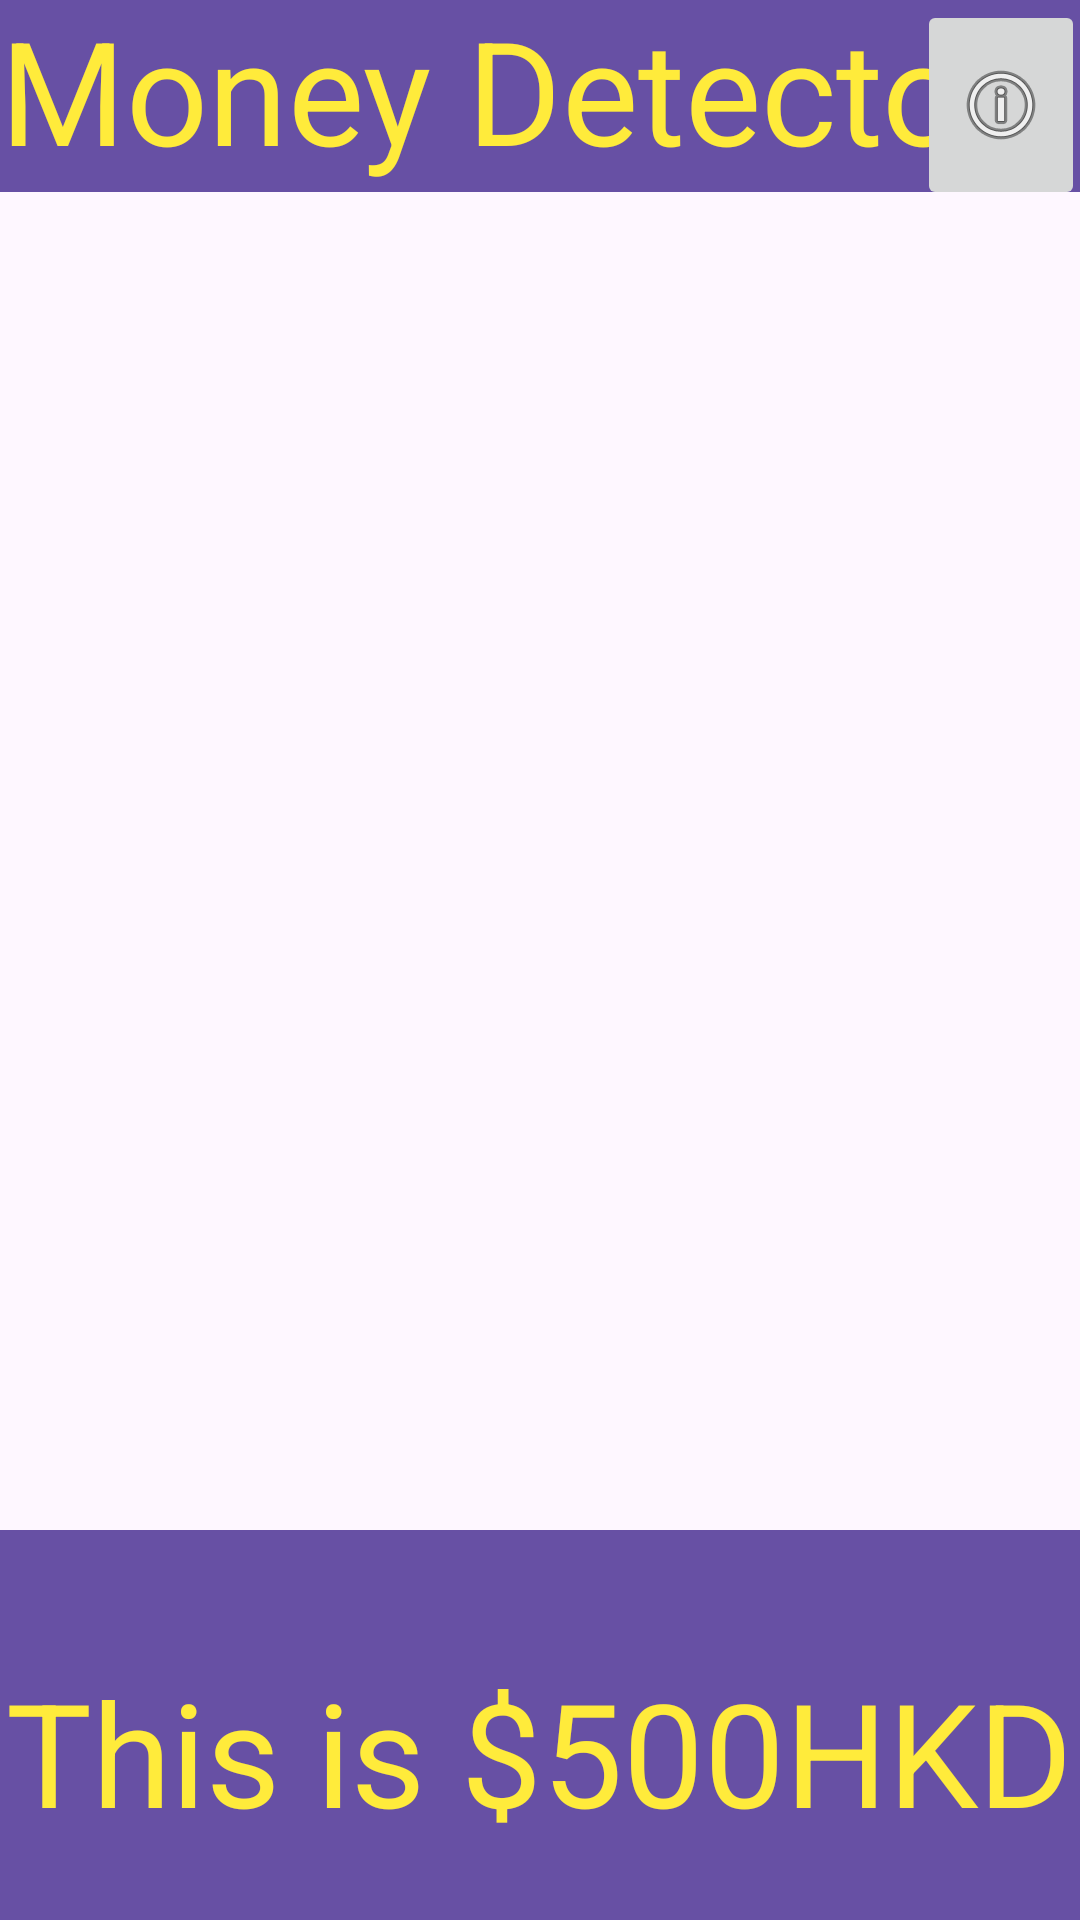

Named icons in this screenshot (1080 × 1920) and their centers, (x,y):
info details: (998,105)
